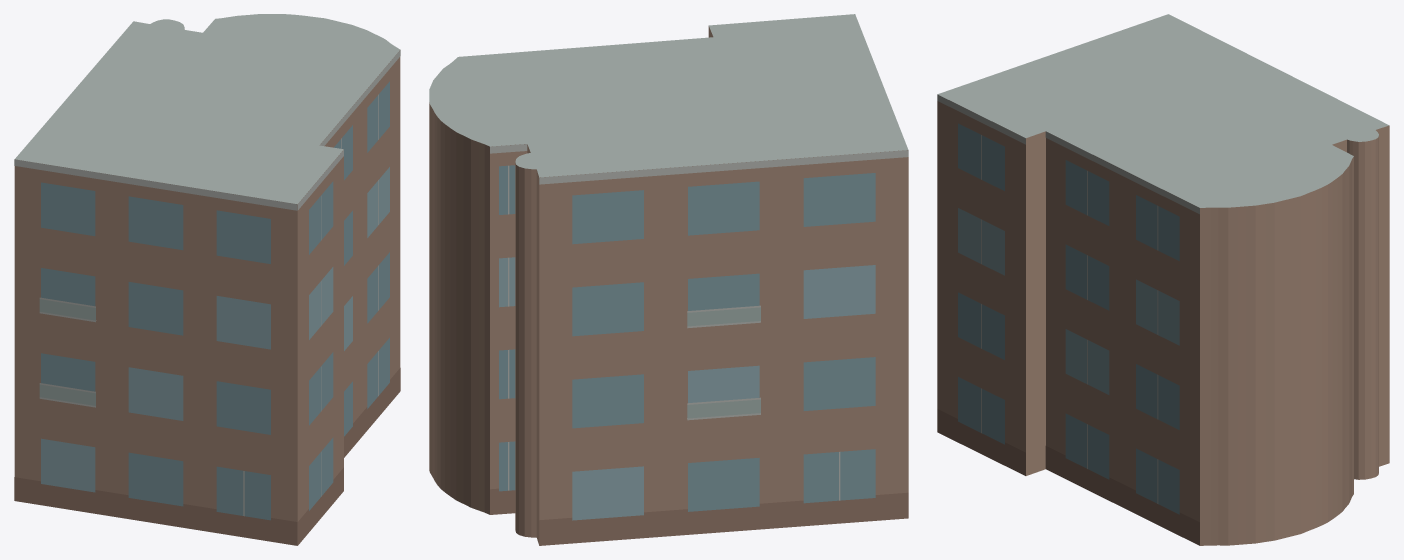
The model's file is survey-upis-32974048.glb.
The picture shows the model from 3 angles, left to right: view 1: azimuth 30°, elevation 25°; view 2: azimuth 150°, elevation 25°; view 3: azimuth 270°, elevation 25°; orthographic projection. The views are drawn at different scales.
Parts seen in each view (by area): view 1: survey-upis-32974048.tmp; view 2: survey-upis-32974048.tmp; view 3: survey-upis-32974048.tmp.
Boxes of the visible parts, <box> form: survey-upis-32974048.tmp: <box>14,14,400,545</box>; survey-upis-32974048.tmp: <box>429,14,908,545</box>; survey-upis-32974048.tmp: <box>937,14,1389,545</box>.
Bounding box in the file's own units: 15.64 × 12.7 × 15.41.
